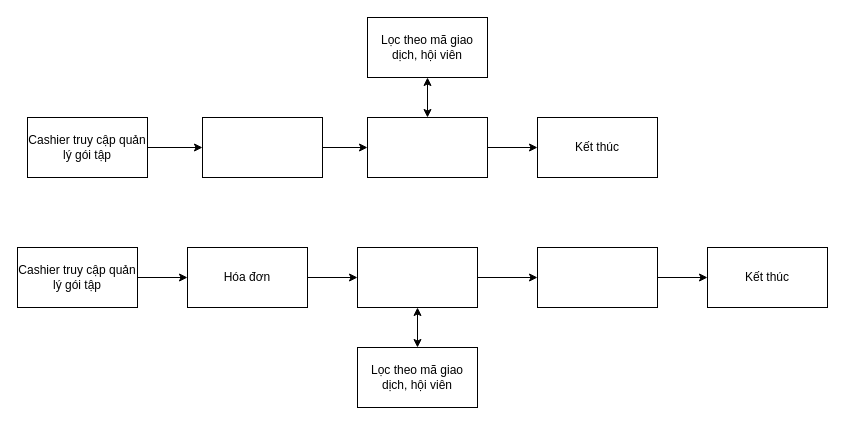
Some shapes in this 845 by 425 pixel diagram are drawn without their labels. The centre of each missing label's shape, as x and y in pixels:
Hệ thống hiển thị danh sách hóa đơn: the point at 417,277
Hệ thống hiển thị danh sách lịch sử đáng ký: the point at 427,147
Lịch sử đăng ký: the point at 262,147
Xem hóa đơn chi tiết: the point at 597,277
